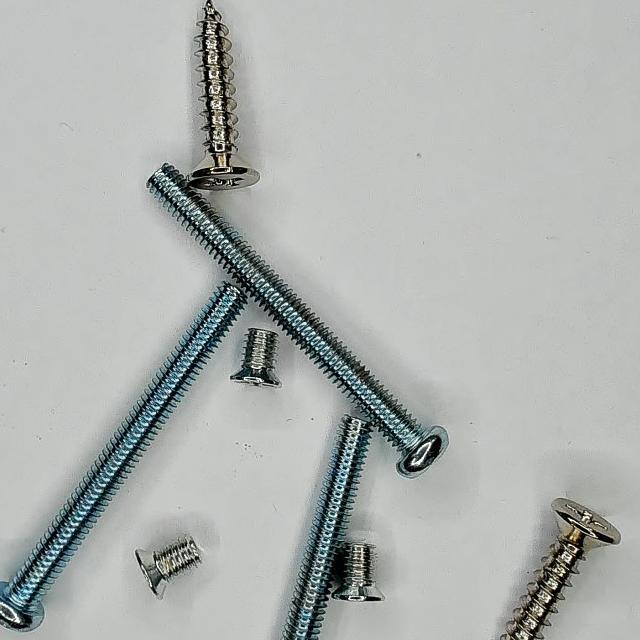Screw: (0, 283, 246, 632), (149, 164, 425, 462), (284, 416, 372, 640), (502, 499, 623, 640), (189, 0, 260, 190), (332, 544, 385, 603), (153, 538, 201, 582), (242, 329, 278, 370)
